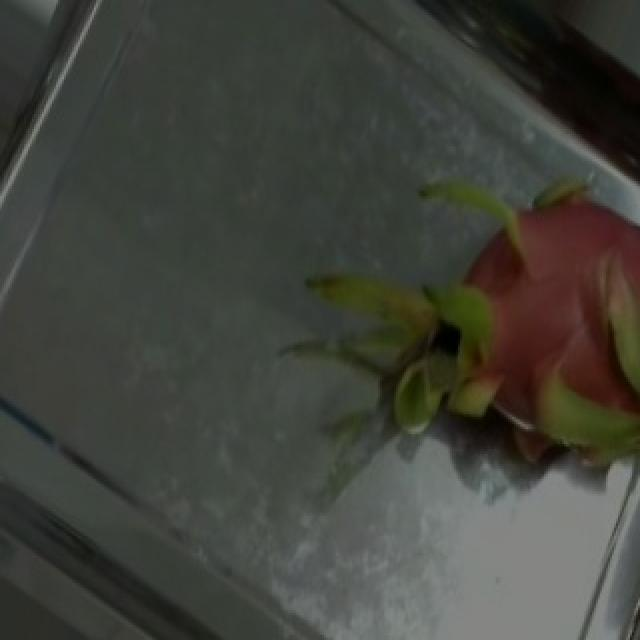fruit: (296, 84, 640, 536)
